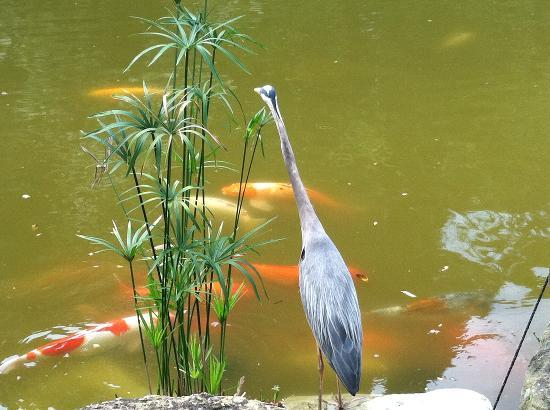heron: (240, 77, 370, 410)
